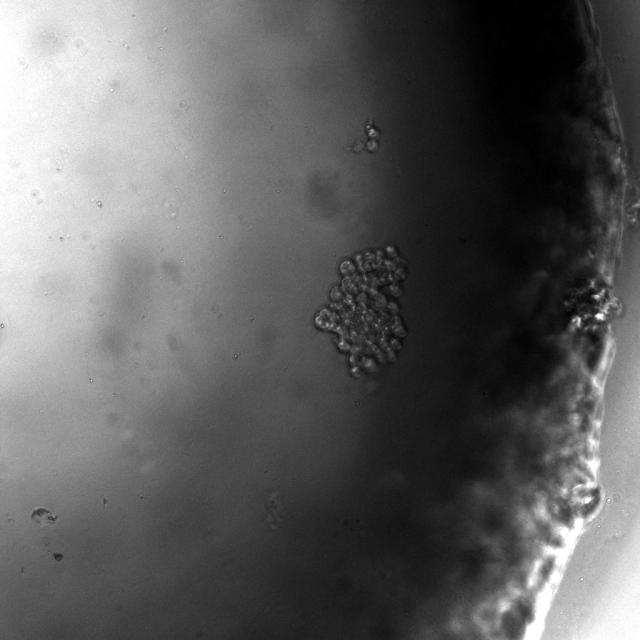organoid: (314, 246, 406, 377), (348, 119, 381, 153)
